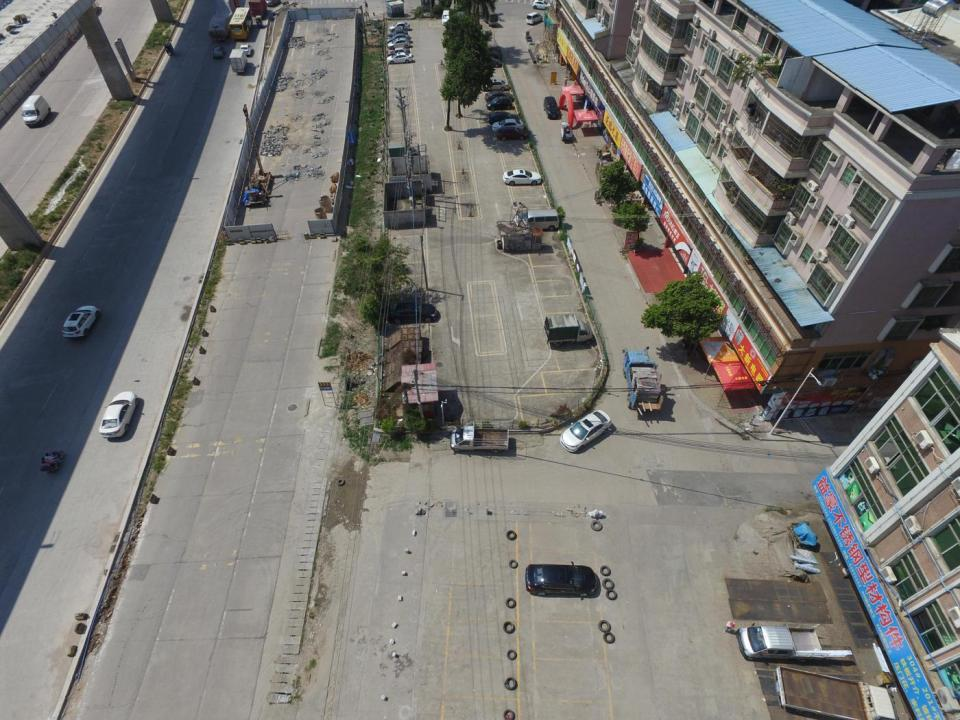bus: (228, 7, 253, 39)
car: (526, 561, 597, 596), (559, 410, 610, 452), (100, 390, 138, 438), (62, 305, 99, 339), (388, 302, 437, 322), (502, 168, 541, 187), (496, 127, 528, 141), (490, 119, 525, 131), (482, 77, 510, 92), (486, 96, 512, 112), (488, 111, 517, 124), (485, 90, 513, 102), (390, 21, 412, 32), (387, 53, 411, 63), (387, 38, 409, 48), (386, 34, 408, 43), (211, 46, 225, 59), (387, 31, 407, 40), (388, 48, 410, 56), (532, 0, 551, 9), (238, 44, 252, 56), (267, 0, 280, 6)
van: (774, 666, 897, 718), (738, 618, 828, 663), (621, 346, 664, 412), (450, 420, 510, 454), (543, 313, 592, 347), (22, 94, 51, 128), (516, 207, 560, 229), (208, 13, 232, 41), (230, 49, 248, 72), (543, 96, 560, 118), (248, 0, 268, 17), (480, 7, 498, 24), (526, 12, 543, 24), (442, 10, 454, 24)
